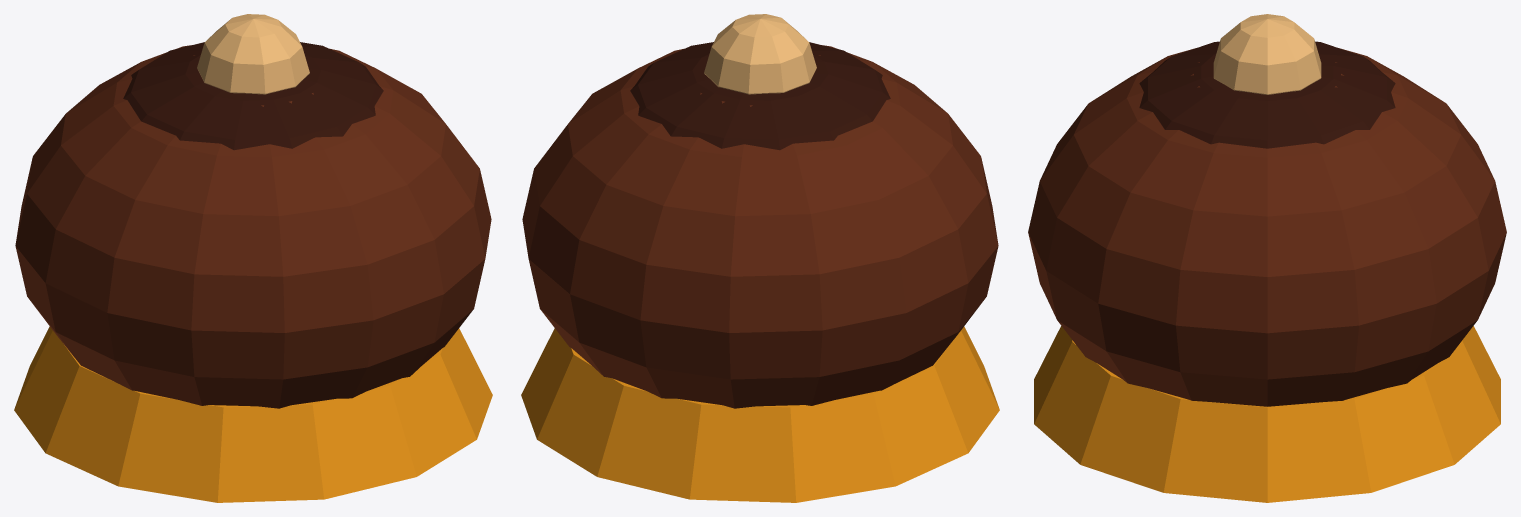
Rendered from bonobon.obj.
The picture shows the model from 3 angles, left to right: view 1: azimuth 30°, elevation 25°; view 2: azimuth 150°, elevation 25°; view 3: azimuth 270°, elevation 25°; orthographic projection.
Parts seen in each view (by area): view 1: ChocolateBonbon, FoilCup, ChocolateTop, CreamDollop; view 2: ChocolateBonbon, FoilCup, ChocolateTop, CreamDollop; view 3: ChocolateBonbon, FoilCup, ChocolateTop, CreamDollop.
Boxes of the visible parts, x1,y1,x2,y2 form: ChocolateBonbon: (15, 45, 491, 408); FoilCup: (14, 326, 492, 502); ChocolateTop: (123, 42, 383, 150); CreamDollop: (197, 14, 309, 94); ChocolateBonbon: (522, 45, 998, 408); FoilCup: (521, 326, 999, 502); ChocolateTop: (630, 42, 890, 150); CreamDollop: (704, 14, 816, 94); ChocolateBonbon: (1028, 48, 1506, 406); FoilCup: (1034, 326, 1500, 502); ChocolateTop: (1139, 41, 1395, 148); CreamDollop: (1213, 14, 1321, 94).
Size of the model in its own units: 1.1 by 0.97 by 1.1.
